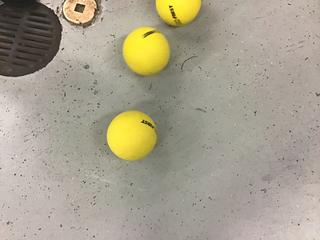power_cell: (106, 109, 163, 167), (123, 27, 174, 74), (155, 2, 205, 30)
